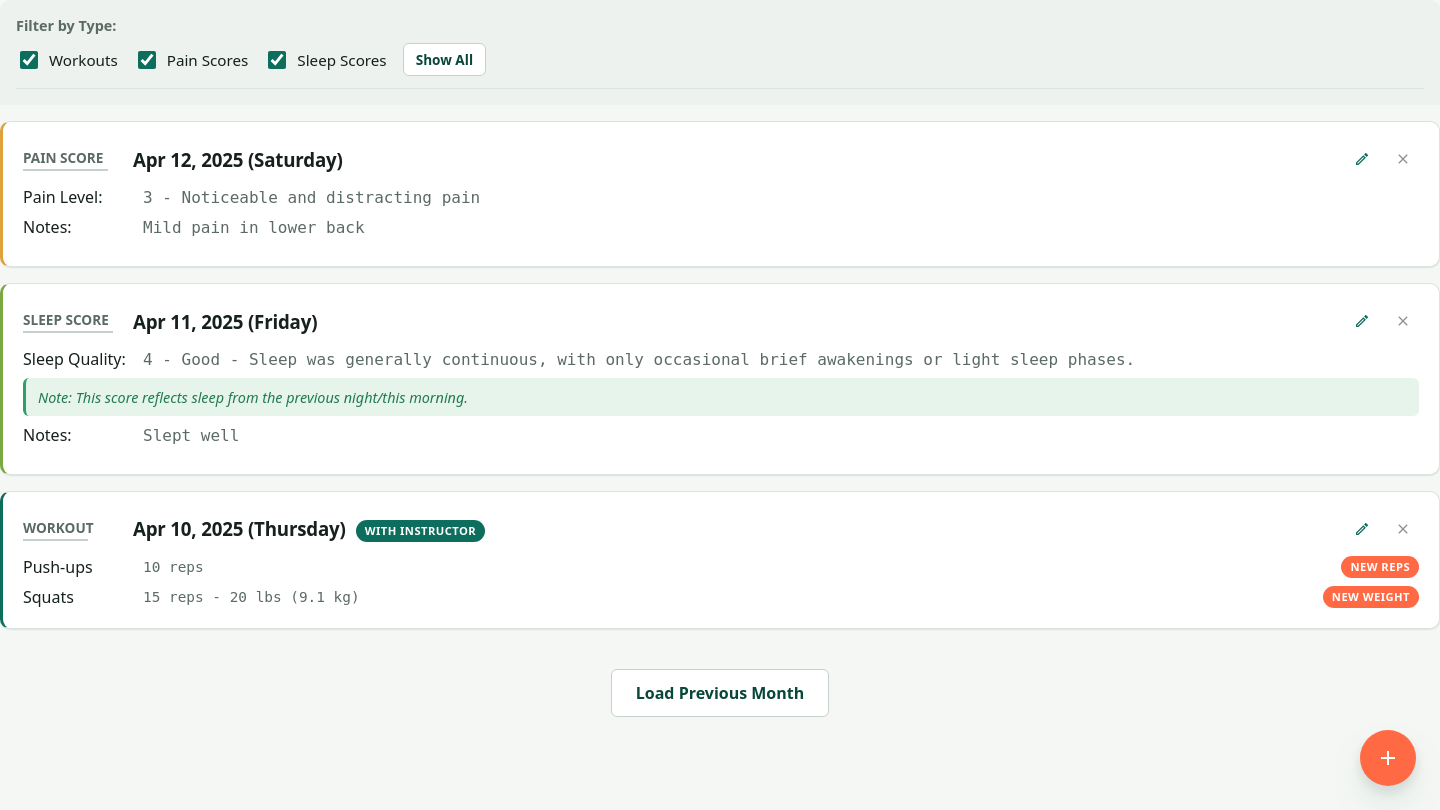
Test: ListView › Data Fetching › should show load button when more items available (total > items.length)
Expected: the heading "Apr 12, 2025 (Saturday)" is shown, [133,146,343,172]
# Click to load next page
Click the button "Load Previous Month": (720, 693) [611,669,829,717]
(page scrolled)
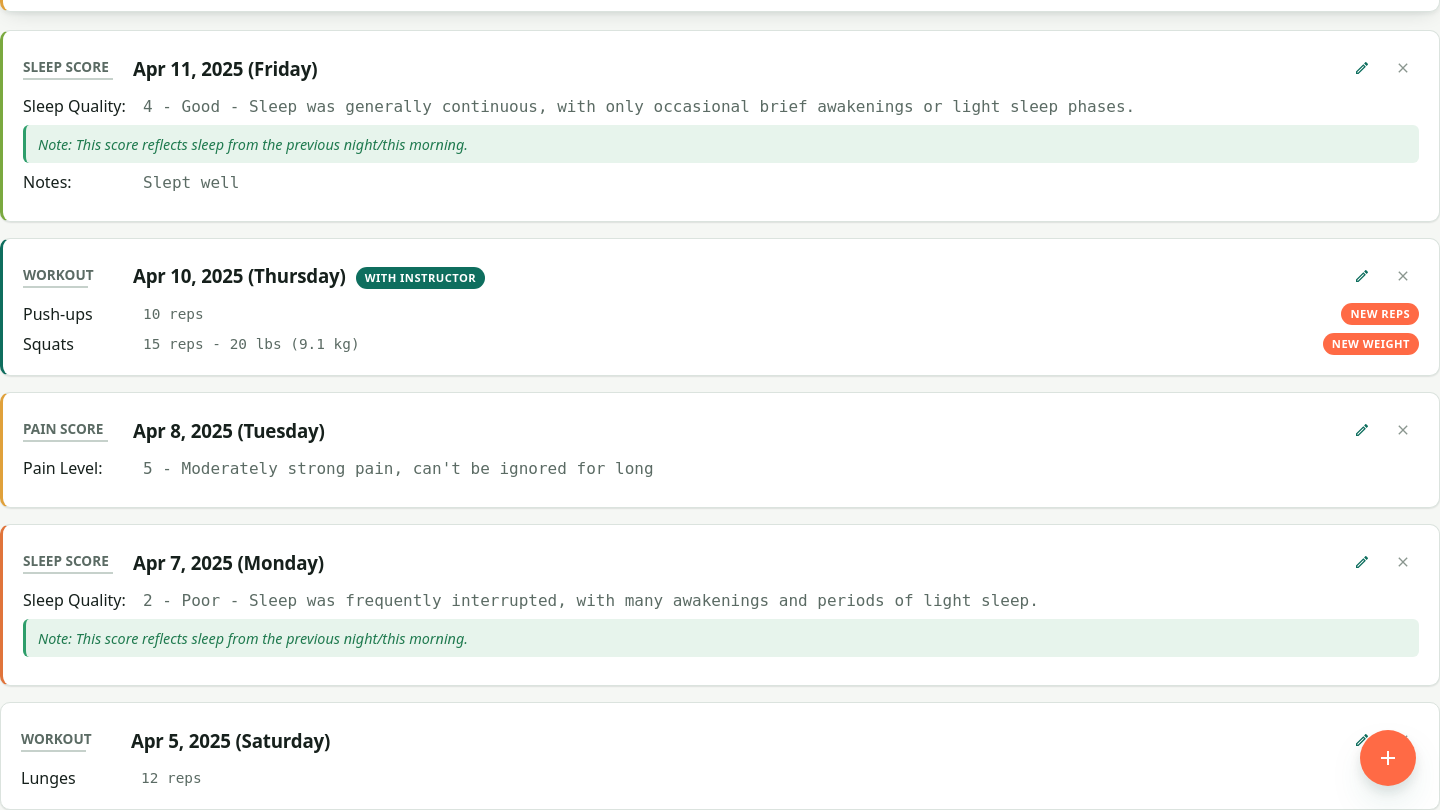
Expected: the heading "Apr 5, 2025 (Saturday)" is shown, [131,728,330,752]
Expected: the button "Load Previous Month" is gone
